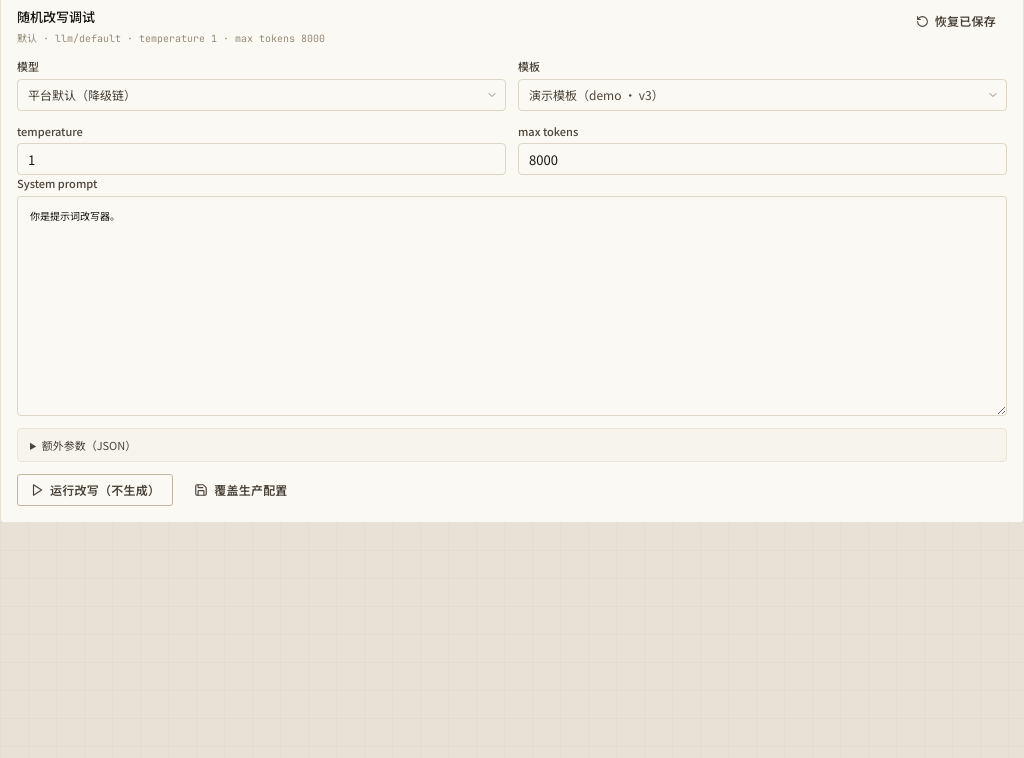
Test: 随机改写调试面板 › 模型稿未通过校验时仍展示原始输出
This screenshot has width=1024, height=758.
What coordinates should you click on to do the following:
click the button "运行改写（不生成）"
I would click on:
 (95, 490)
Its box is [17,474,173,506].
(page scrolled)
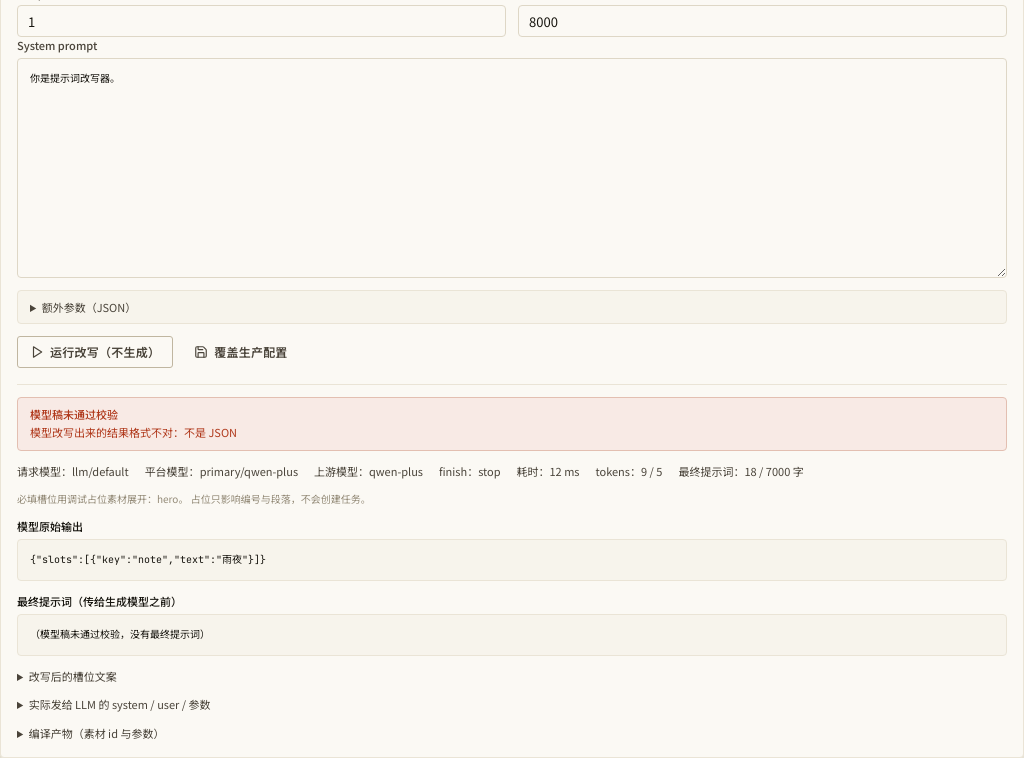
Result: the text "模型改写出来的结果格式不对：不是 JSON" is shown at [30,424,237,440]
Result: the text "{\"slots\":[{\"key\":\"note\",\"text\":\"雨夜\"}]}" is shown at [17,539,1007,581]
Result: the text "（模型稿未通过校验，没有最终提示词）" is shown at [17,614,1007,656]
